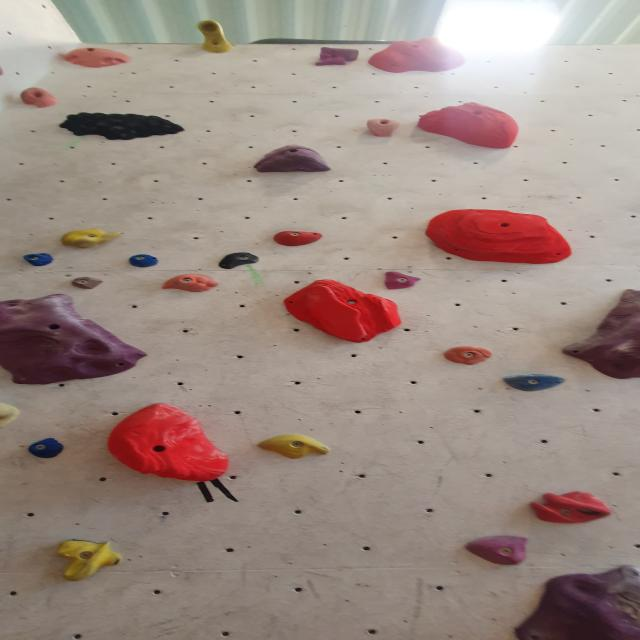Crimp: (0, 295, 148, 389), (505, 566, 639, 638), (421, 208, 575, 264), (561, 288, 640, 383), (252, 432, 336, 462), (495, 373, 573, 393), (440, 344, 495, 366), (312, 47, 358, 73), (270, 230, 328, 250), (26, 438, 70, 461), (383, 270, 424, 292), (123, 252, 162, 270), (18, 251, 58, 268), (70, 275, 106, 291)
Jug: (49, 109, 190, 145), (52, 539, 127, 584), (192, 20, 235, 58), (18, 86, 62, 110)
Pinch: (282, 281, 406, 346), (58, 227, 126, 252), (359, 115, 404, 142)
Pocket: (527, 490, 617, 526)
Sloper: (103, 402, 233, 480), (411, 104, 521, 151), (365, 38, 472, 77), (248, 143, 334, 177), (53, 41, 137, 75), (461, 533, 532, 567), (160, 272, 222, 294)
